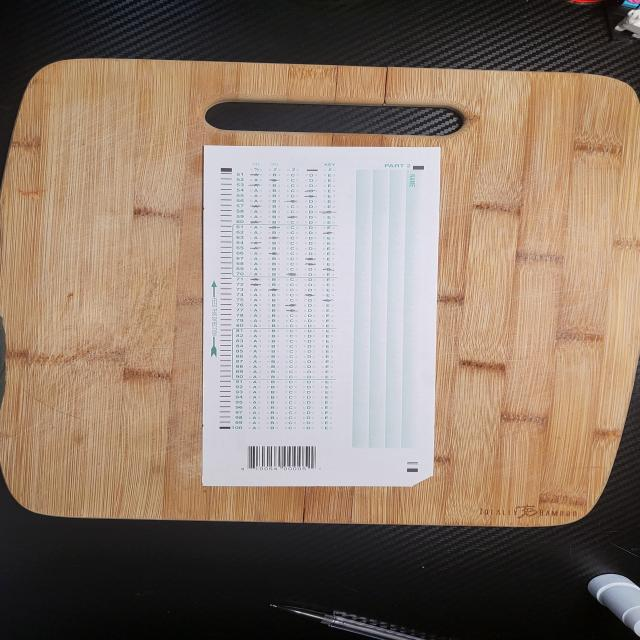scantron_back: (202, 144, 442, 487)
